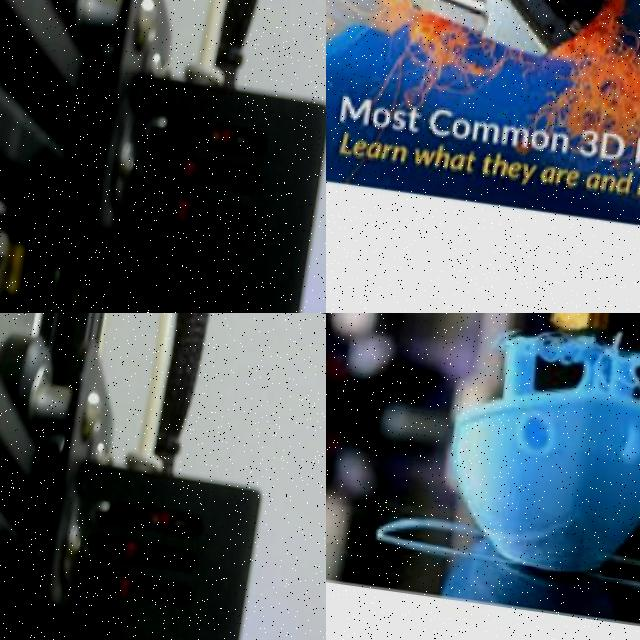spaghetti: (326, 0, 640, 172), (490, 313, 640, 389)
